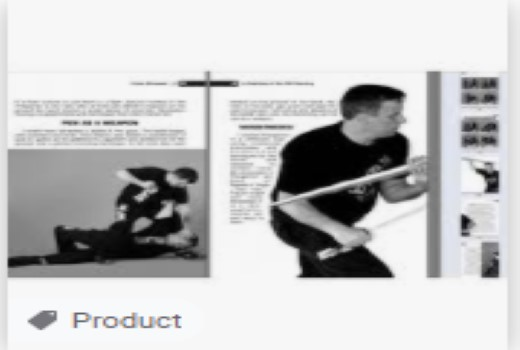baston_e: (276, 158, 407, 215)
baston_v: (313, 235, 342, 267)
